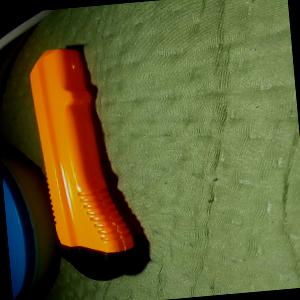estilete: (27, 40, 137, 286)
